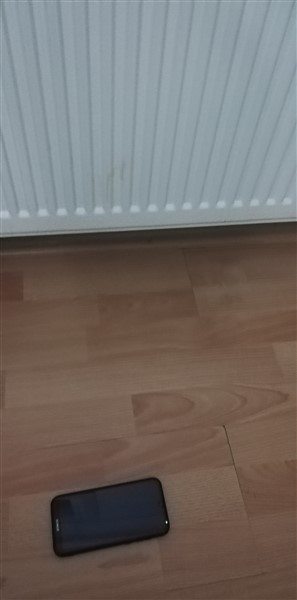telefon: (47, 477, 183, 561)
